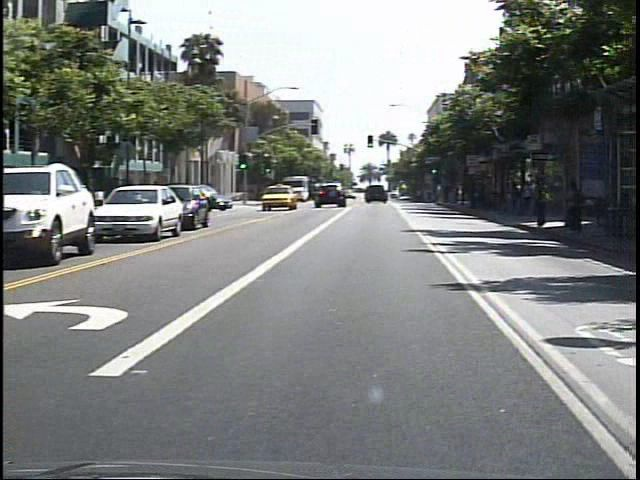person: (539, 166, 562, 232), (570, 177, 593, 239), (527, 179, 546, 219)
